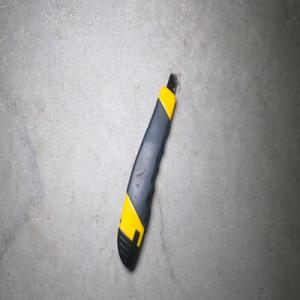Cutter: (116, 71, 178, 270)
